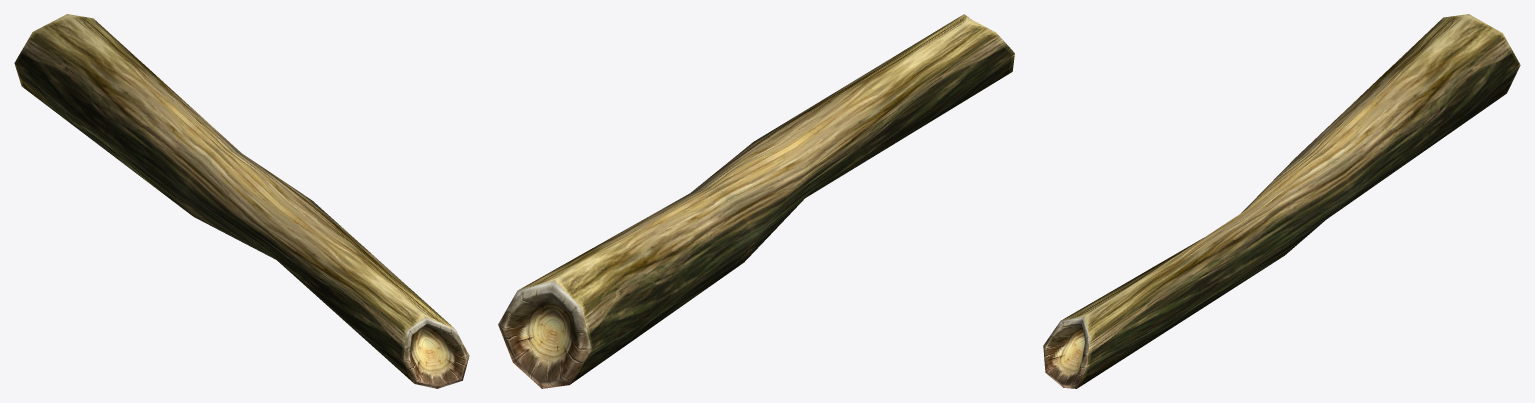
The model's file is redridgefallentree01.glb.
The picture shows the model from 3 angles, left to right: view 1: azimuth 30°, elevation 25°; view 2: azimuth 150°, elevation 25°; view 3: azimuth 330°, elevation 25°; orthographic projection. The views are drawn at different scales.
Bounding box in the file's own units: 1.5 × 1.62 × 12.24.
2 materials, 2 textured.
